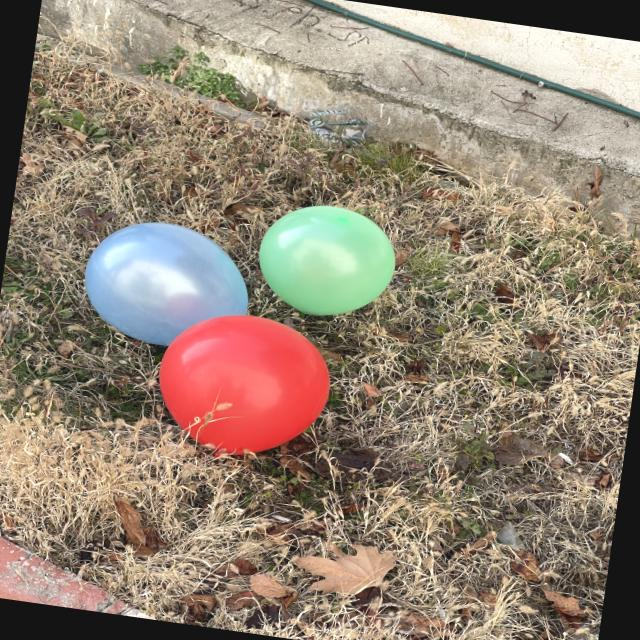balloon: (160, 315, 330, 455), (85, 223, 248, 346), (259, 206, 395, 315)
